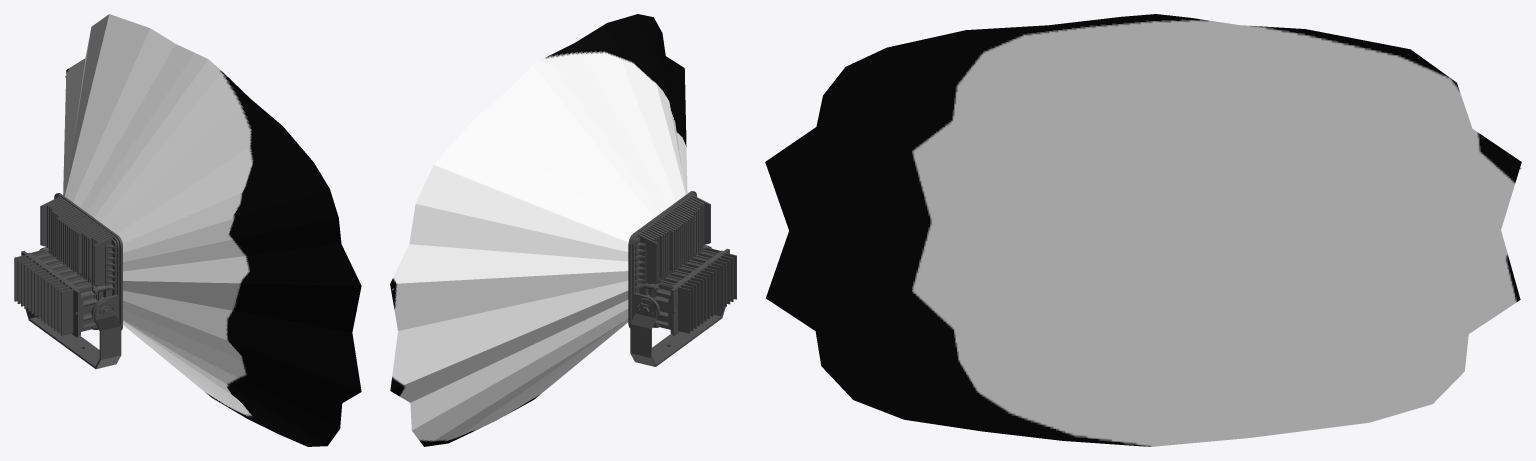
Rendered from floodLightRaw_Type_1.obj.
3 views of the same model, side by side, from view 1: azimuth 30°, elevation 25°; view 2: azimuth 150°, elevation 25°; view 3: azimuth 270°, elevation 25° (orthographic). The views are drawn at different scales.
Parts seen in each view (by area): view 1: Cylinder, FMV3LCY_UNV1D33; view 2: Cylinder, FMV3LCY_UNV1D33; view 3: Cylinder.
Boxes of the visible parts, x1=… form: Cylinder: x1=63, y1=14, x2=361, y2=446; FMV3LCY_UNV1D33: x1=14, y1=193, x2=122, y2=369; Cylinder: x1=390, y1=14, x2=687, y2=446; FMV3LCY_UNV1D33: x1=628, y1=191, x2=736, y2=366; Cylinder: x1=765, y1=14, x2=1521, y2=446.
Size of the model in its own units: 23.49 by 42.85 by 67.97.
Materials: 3 (2 with a texture image).
